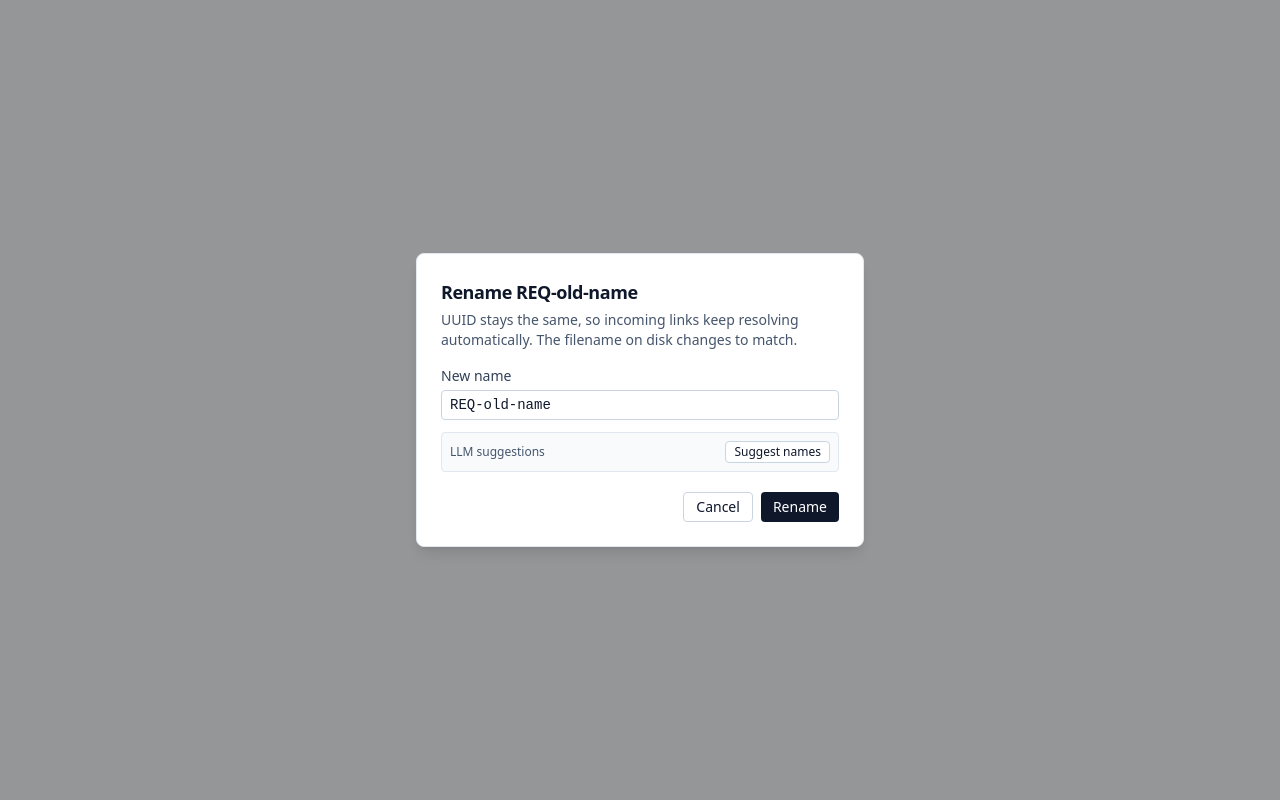
Test: RenameArtifactDialog › shows the Suggest panel and lists suggestions after clicking
Click the button with test id "rename-suggest-button" at (778, 452), box [725,441,830,463]
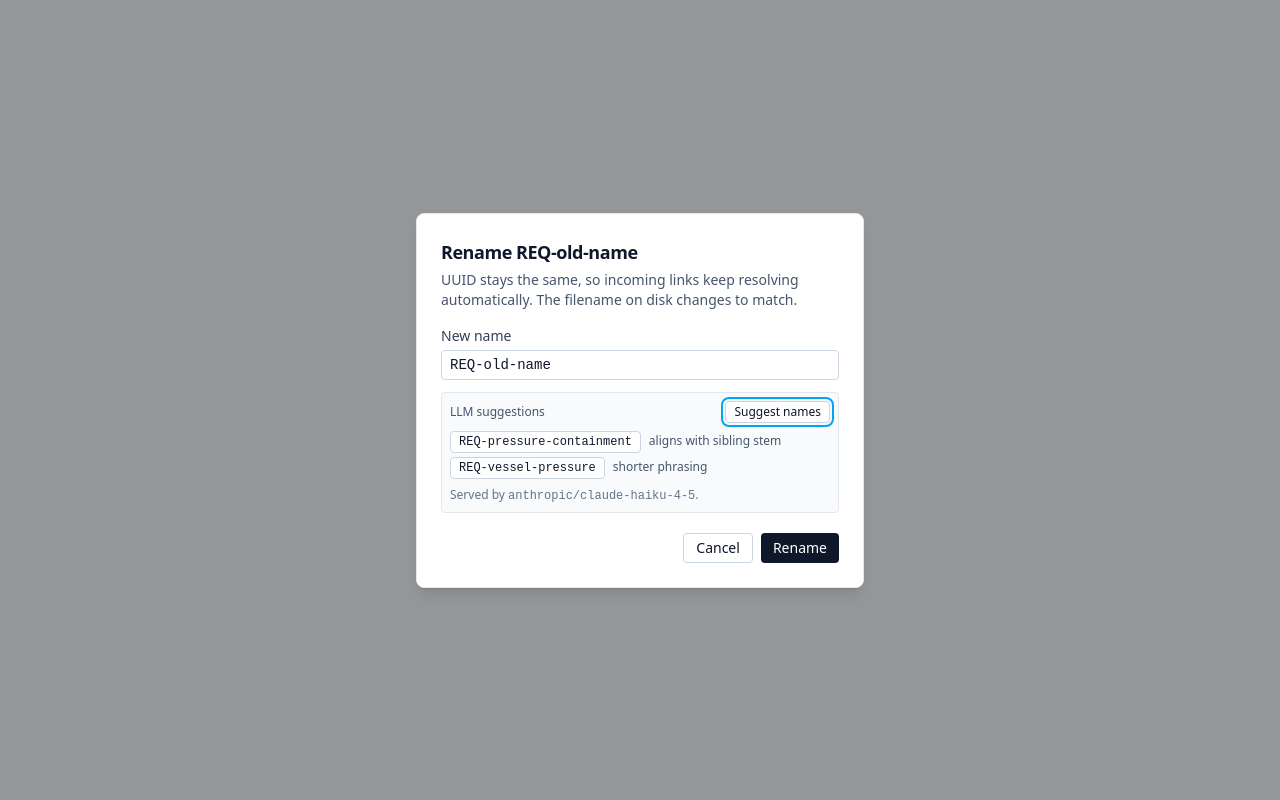
Now the list with test id "rename-suggest-list" is shown, box [450,430,830,478]
Now the button with test id "rename-suggest-pick-REQ-pressure-containment" is shown, box [450,430,641,452]
